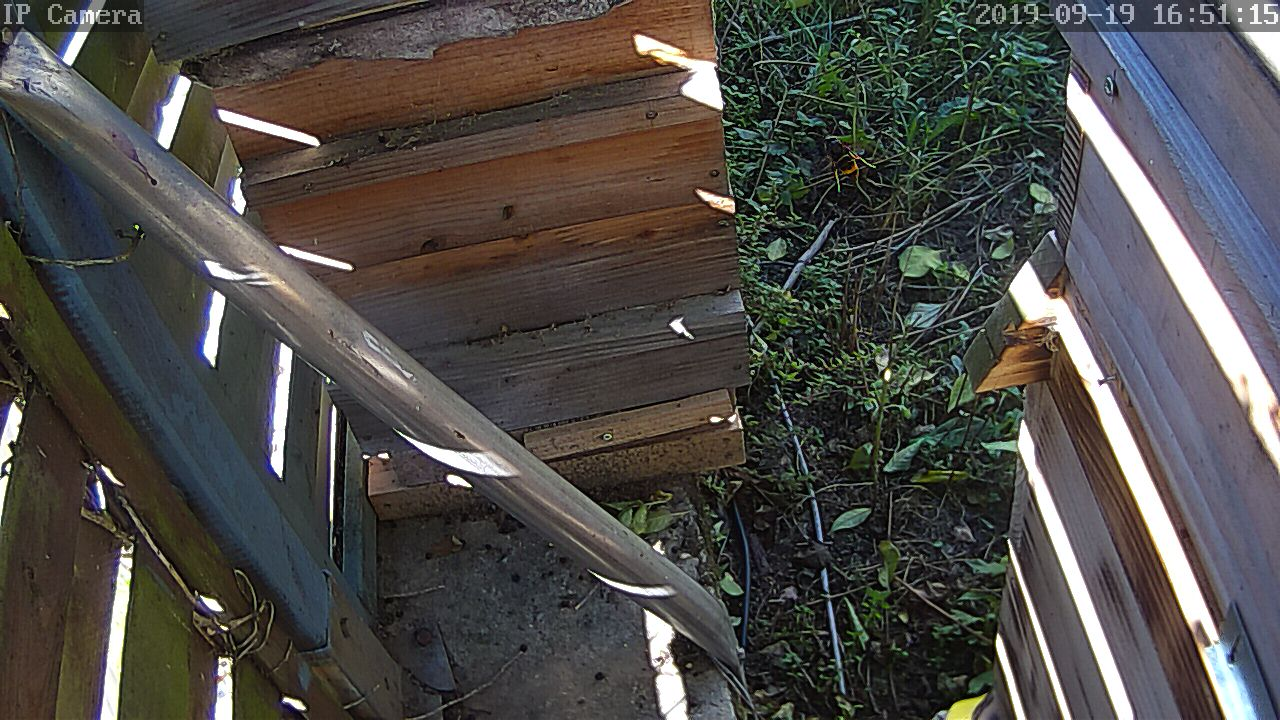hornet: (69, 0, 1248, 720)
